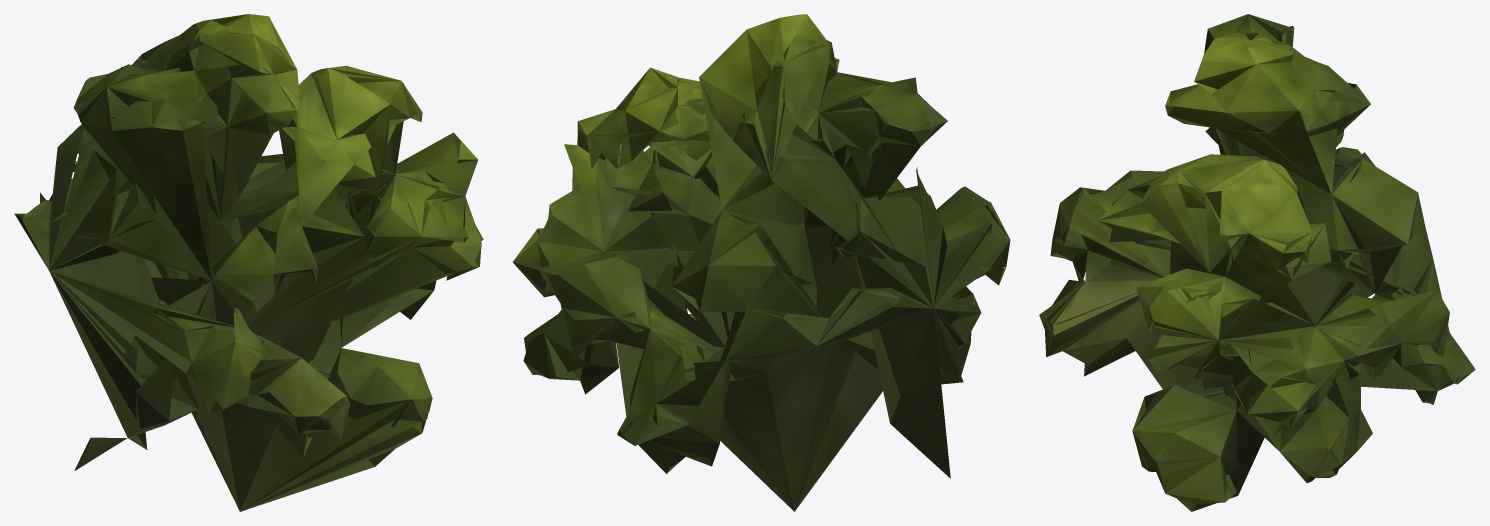
The model's file is deciduous-low.glb.
The picture shows the model from 3 angles, left to right: view 1: azimuth 30°, elevation 25°; view 2: azimuth 150°, elevation 25°; view 3: azimuth 270°, elevation 25°; orthographic projection. The views are drawn at different scales.
Parts seen in each view (by area): view 1: tripo_node_0aad6654-c05a-4e03-839a-128882ee37f8; view 2: tripo_node_0aad6654-c05a-4e03-839a-128882ee37f8; view 3: tripo_node_0aad6654-c05a-4e03-839a-128882ee37f8.
Boxes of the visible parts, x1=… form: tripo_node_0aad6654-c05a-4e03-839a-128882ee37f8: x1=14, y1=14, x2=483, y2=511; tripo_node_0aad6654-c05a-4e03-839a-128882ee37f8: x1=512, y1=14, x2=1010, y2=511; tripo_node_0aad6654-c05a-4e03-839a-128882ee37f8: x1=1039, y1=14, x2=1475, y2=511.
Bounding box in the file's own units: 0.7681 × 0.8731 × 0.7485.
Materials: 1 (1 with a texture image).
